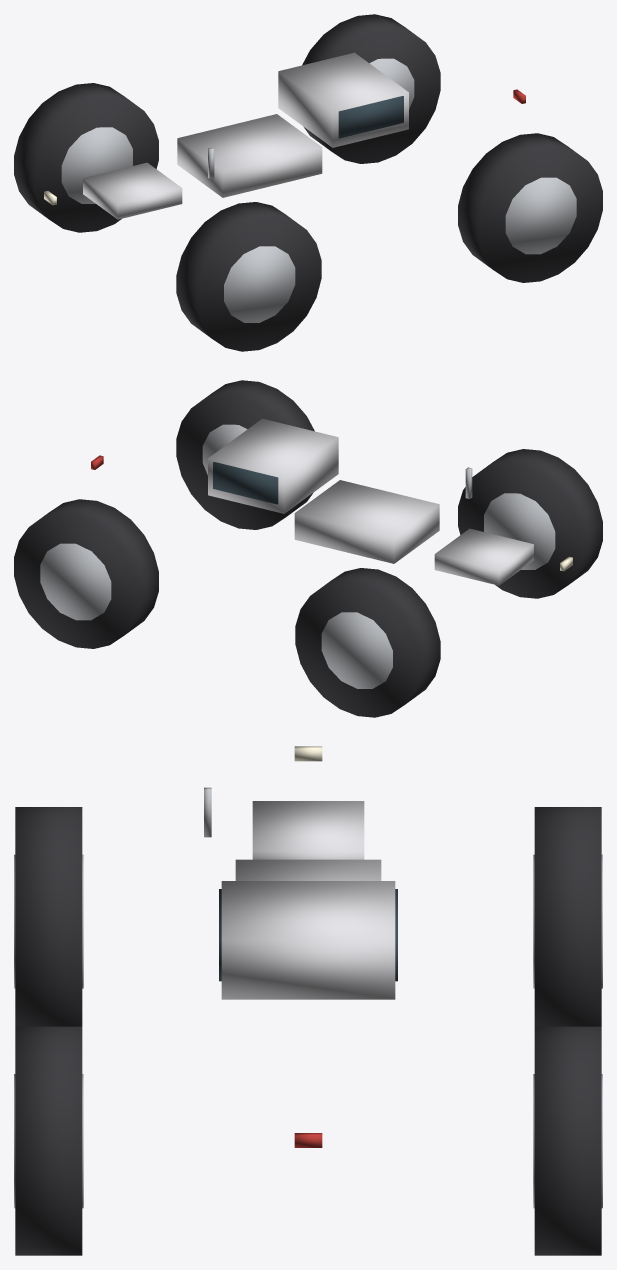
File: tractor-shovel.glb
3 renders of one model, top to bottom at view 1: azimuth 30°, elevation 25°; view 2: azimuth 150°, elevation 25°; view 3: azimuth 270°, elevation 25°, orthographic. The views are drawn at different scales.
Parts seen in each view (by area): view 1: wheel_front_r, wheel_rear_r, wheel_front_l, body_main, wheel_rear_l, body_cabin, trim_rim__rear_r, trim_rim__front_r, body_hood, trim_rim__front_l, glass_cabin, trim_rim__rear_l; view 2: wheel_front_l, wheel_rear_l, wheel_front_r, body_main, wheel_rear_r, body_cabin, trim_rim__rear_l, trim_rim__front_l, body_hood, trim_rim__front_r, glass_cabin, trim_rim__rear_r; view 3: body_cabin, wheel_rear_l, wheel_rear_r, wheel_front_l, wheel_front_r, body_hood, body_main.
Part boxes in pixels (box(x1,y1,x2,y2)): wheel_front_r: box(176, 202, 321, 351); wheel_rear_r: box(458, 133, 602, 282); wheel_front_l: box(14, 83, 158, 232); body_main: box(177, 114, 322, 197); wheel_rear_l: box(302, 14, 440, 163); body_cabin: box(278, 52, 408, 147); trim_rim__rear_r: box(505, 177, 576, 254); trim_rim__front_r: box(224, 246, 295, 322); body_hood: box(83, 162, 182, 219); trim_rim__front_l: box(61, 127, 132, 203); glass_cabin: box(338, 96, 403, 138); trim_rim__rear_l: box(369, 58, 414, 109); wheel_front_l: box(295, 568, 440, 717); wheel_rear_l: box(14, 499, 158, 648); wheel_front_r: box(458, 449, 602, 598); body_main: box(294, 480, 439, 563); wheel_rear_r: box(176, 380, 314, 529); body_cabin: box(208, 418, 338, 513); trim_rim__rear_l: box(40, 543, 111, 620); trim_rim__front_l: box(321, 612, 392, 688); body_hood: box(434, 528, 533, 585); trim_rim__front_r: box(484, 493, 555, 569); glass_cabin: box(213, 462, 278, 504); trim_rim__rear_r: box(202, 424, 247, 475); body_cabin: box(221, 881, 395, 999); wheel_rear_l: box(534, 1026, 601, 1255); wheel_rear_r: box(15, 1026, 82, 1255); wheel_front_l: box(534, 807, 601, 1026); wheel_front_r: box(15, 807, 82, 1026); body_hood: box(252, 801, 364, 859); body_main: box(235, 859, 381, 880).
Size of the model in its own units: 4.68 by 1.5 by 3.16.
